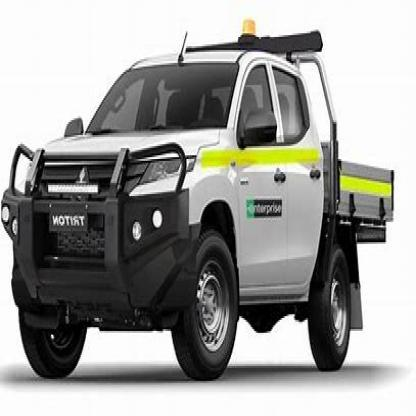light_vehicle: (2, 26, 402, 377)
